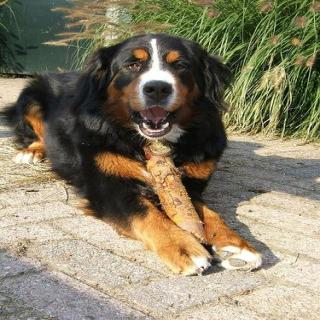dog: (78, 25, 230, 142)
nose: (142, 79, 172, 101)
